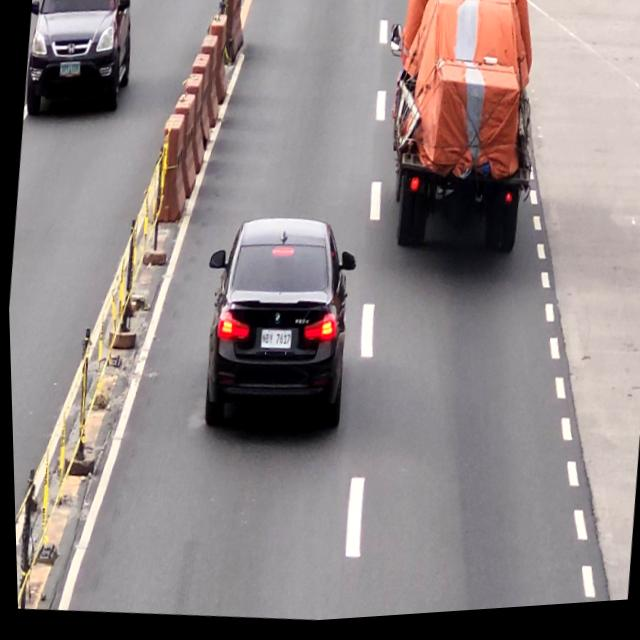Car: (189, 207, 364, 447)
License-Plate: (257, 330, 291, 353)
Truck: (364, 0, 546, 268)
